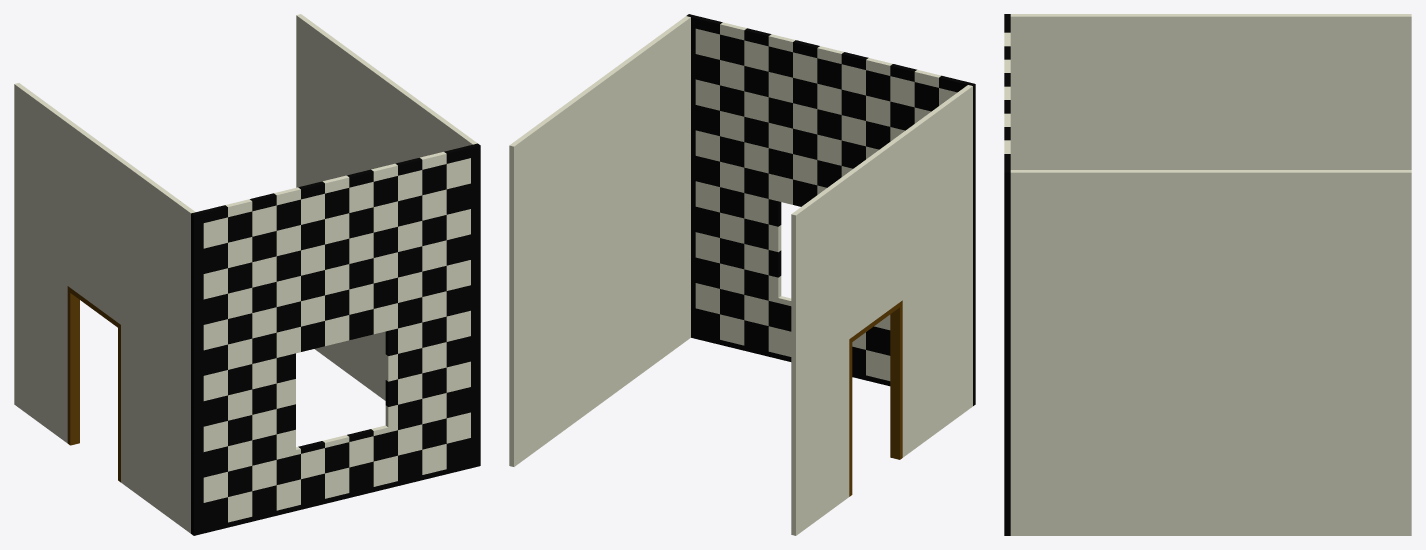
The model's file is Bedroom-2-Walls.obj.
3 renders of one model, left to right at view 1: azimuth 30°, elevation 25°; view 2: azimuth 150°, elevation 25°; view 3: azimuth 270°, elevation 25°, orthographic. The views are drawn at different scales.
Parts seen in each view (by area): view 1: Walls; view 2: Walls; view 3: Walls.
Part boxes in pixels (left/top/right/bottom): Walls: left=14, top=14, right=480, bottom=535; Walls: left=509, top=14, right=975, bottom=535; Walls: left=1004, top=14, right=1411, bottom=535.
Size of the model in its own units: 5.9 by 6.3 by 6.4.
Materials: 1 (1 with a texture image).
